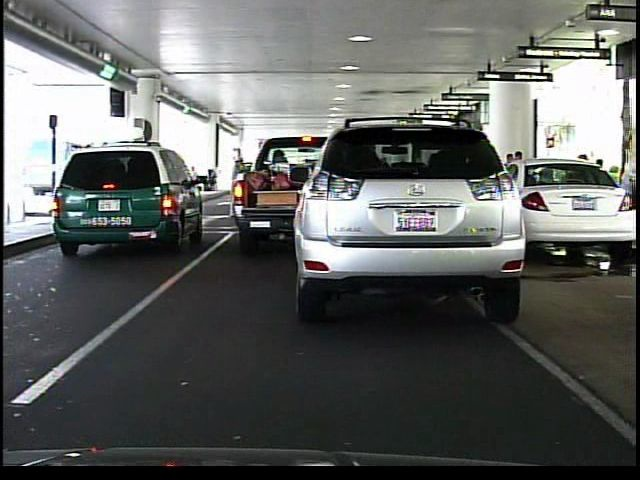person: (218, 155, 251, 222)
